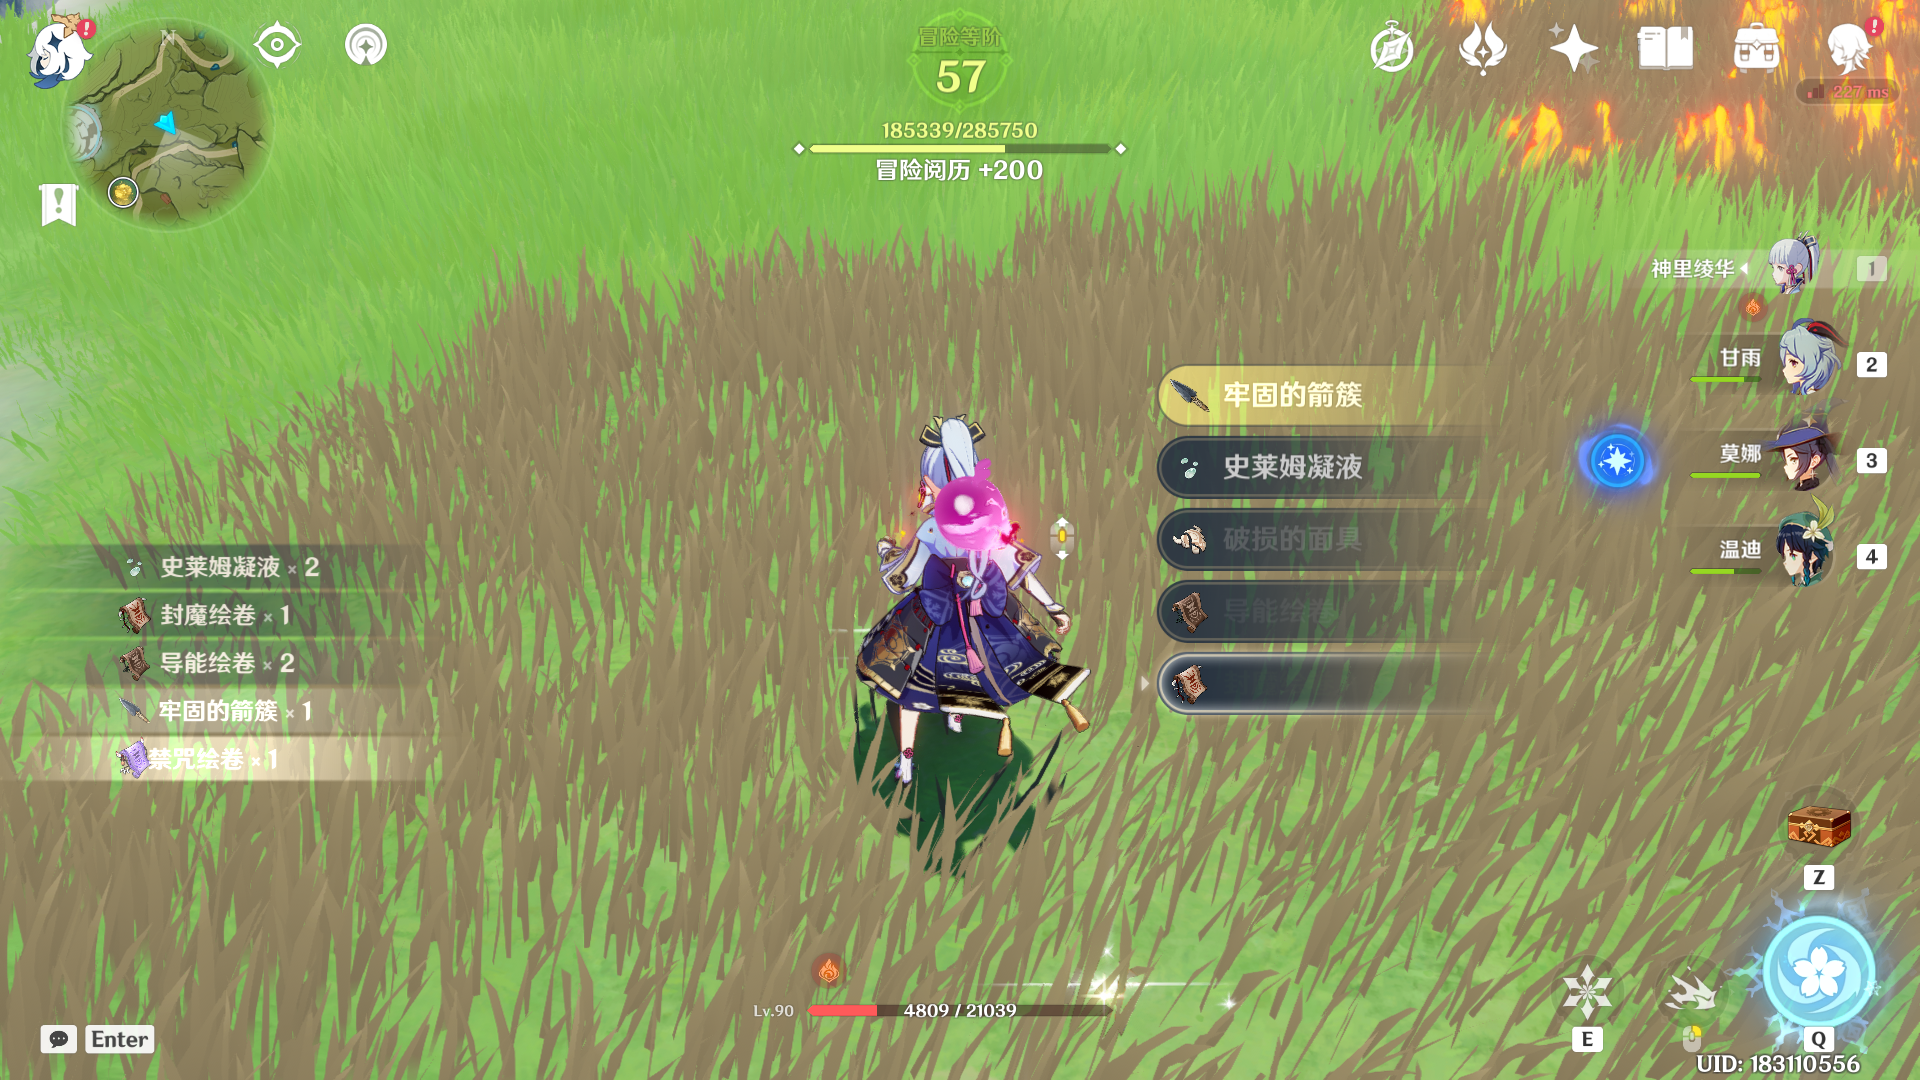character: (808, 392, 1135, 902)
